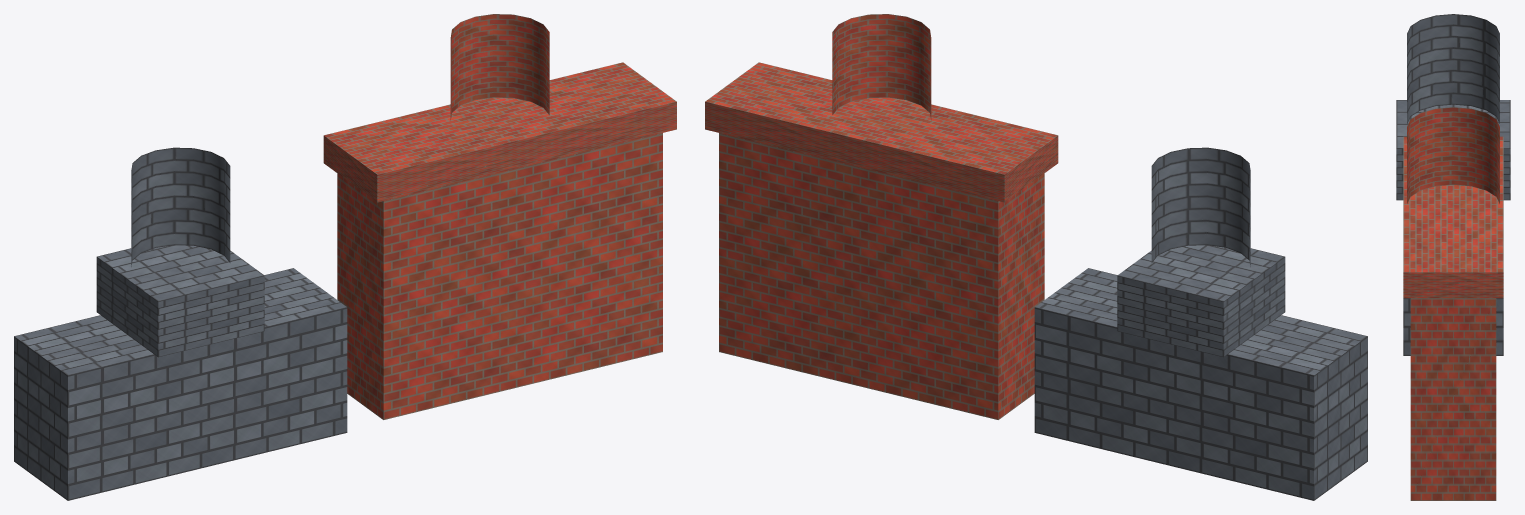
File: pbr_pack_01_stone_and_red_brick.glb
3 renders of one model, left to right at view 1: azimuth 30°, elevation 25°; view 2: azimuth 150°, elevation 25°; view 3: azimuth 270°, elevation 25°, orthographic. The views are drawn at different scales.
Visible parts, largest first — view 1: CDSP_Red_Brick_Module, DaLat_Split_Stone_Module; view 2: CDSP_Red_Brick_Module, DaLat_Split_Stone_Module; view 3: CDSP_Red_Brick_Module, DaLat_Split_Stone_Module.
Boxes of the visible parts, x1=… form: CDSP_Red_Brick_Module: x1=323, y1=14, x2=676, y2=419; DaLat_Split_Stone_Module: x1=14, y1=147, x2=347, y2=500; CDSP_Red_Brick_Module: x1=705, y1=14, x2=1058, y2=419; DaLat_Split_Stone_Module: x1=1034, y1=147, x2=1367, y2=500; CDSP_Red_Brick_Module: x1=1403, y1=107, x2=1503, y2=500; DaLat_Split_Stone_Module: x1=1396, y1=14, x2=1510, y2=355.
Bounding box in the file's own units: 9.15 × 4.8 × 1.6.
2 materials, 2 textured.
